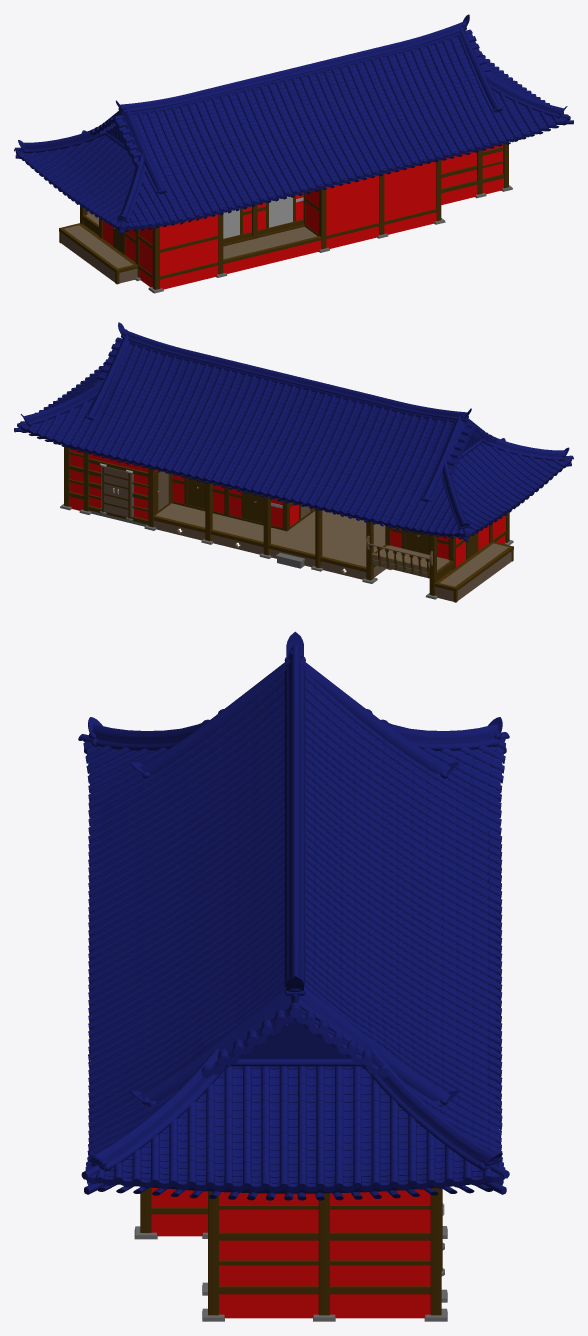
File: house4.fbx
The picture shows the model from 3 angles, top to bottom: view 1: azimuth 30°, elevation 25°; view 2: azimuth 150°, elevation 25°; view 3: azimuth 270°, elevation 25°; orthographic projection. The views are drawn at different scales.
Parts seen in each view (by area): view 1: house4; view 2: house4; view 3: house4.
Part boxes in pixels (box(x1,y1,x2,y2)): house4: box(14, 14, 573, 293); house4: box(14, 322, 573, 602); house4: box(78, 631, 509, 1321).
Bounding box in the file's own units: 129 × 44.01 × 52.76.
